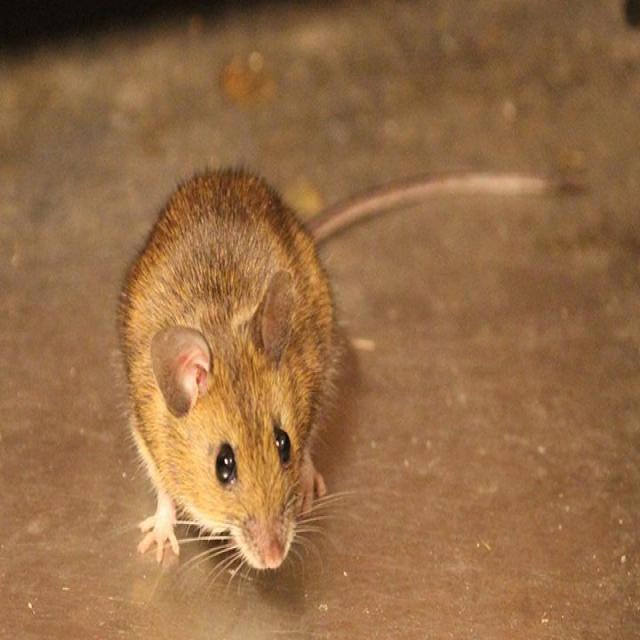Mouse: (116, 158, 346, 582)
